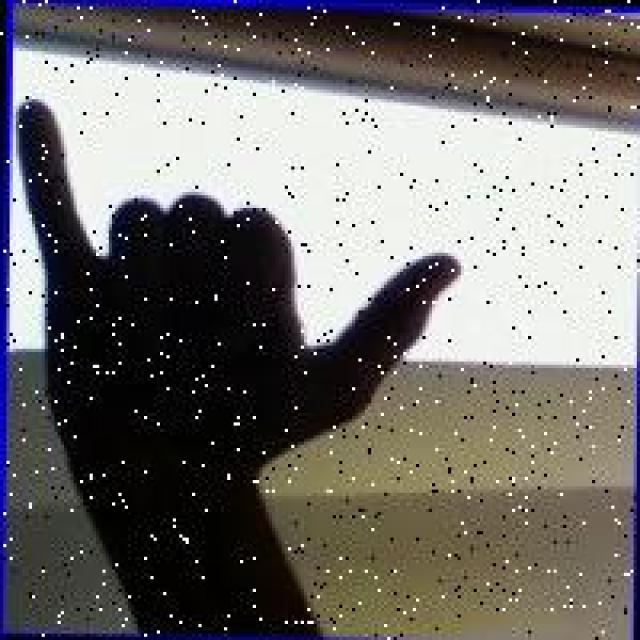Y: (2, 83, 466, 499)
